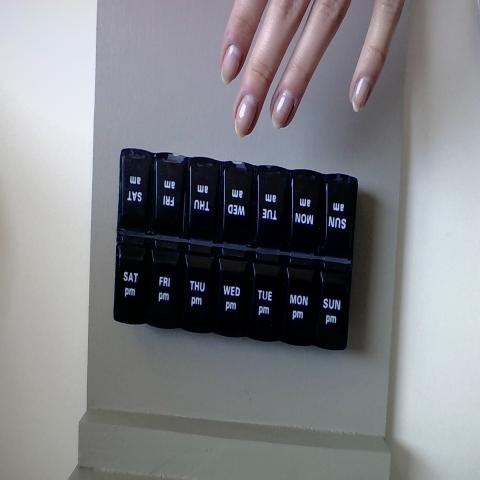FRI-am: (158, 156, 187, 234)
FRI-pm: (151, 243, 182, 324)
Hands: (202, 0, 405, 143)
MON-am: (291, 170, 320, 252)
MON-pm: (284, 266, 316, 343)
PillBox: (100, 143, 377, 374)
SAT-am: (121, 149, 155, 233)
SAT-pm: (117, 241, 148, 324)
SUN-am: (321, 176, 355, 260)
SUN-pm: (318, 269, 349, 345)
THU-am: (188, 155, 220, 242)
THU-pm: (184, 246, 214, 327)
TUE-am: (256, 171, 288, 251)
TUE-pm: (247, 259, 278, 338)
WED-am: (224, 158, 256, 241)
WED-pm: (218, 254, 246, 330)
